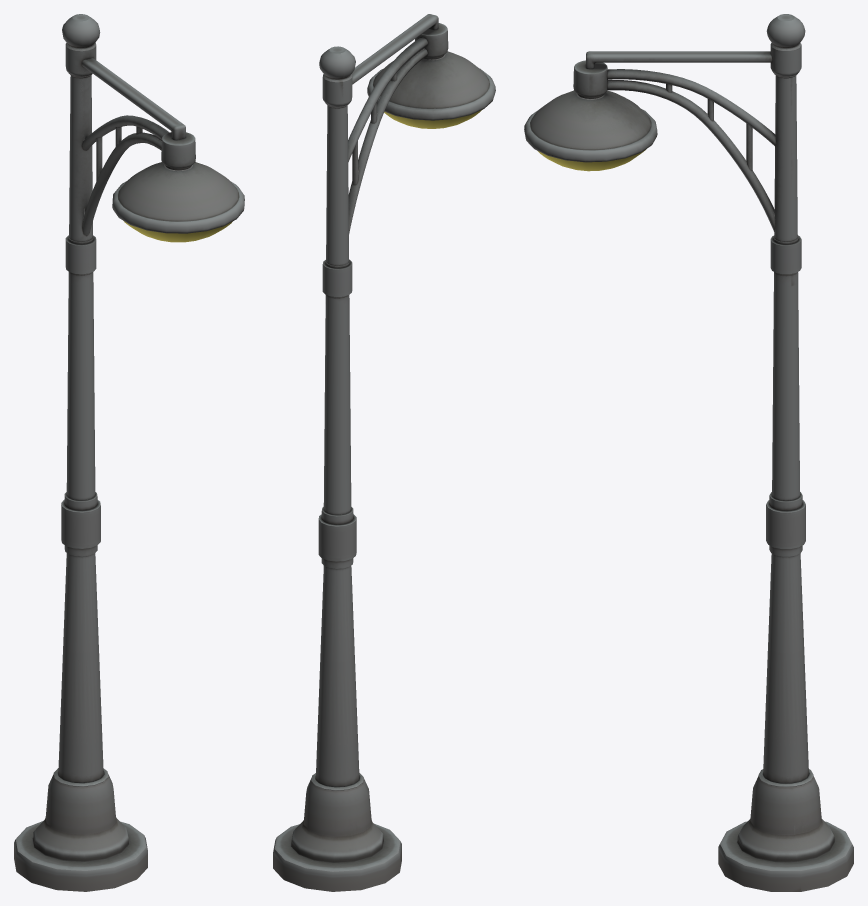
The picture shows the model from 3 angles, left to right: view 1: azimuth 30°, elevation 25°; view 2: azimuth 150°, elevation 25°; view 3: azimuth 270°, elevation 25°; orthographic projection. The views are drawn at different scales.
Parts seen in each view (by area): view 1: SM_Street_Light_M_Street_Light_Pole_0, SM_Street_Light_M_Street_Light_Emission_0; view 2: SM_Street_Light_M_Street_Light_Pole_0, SM_Street_Light_M_Street_Light_Emission_0; view 3: SM_Street_Light_M_Street_Light_Pole_0, SM_Street_Light_M_Street_Light_Emission_0.
Part boxes in pixels (x1=…): SM_Street_Light_M_Street_Light_Pole_0: x1=14, y1=14, x2=244, y2=891; SM_Street_Light_M_Street_Light_Emission_0: x1=124, y1=221, x2=232, y2=242; SM_Street_Light_M_Street_Light_Pole_0: x1=273, y1=14, x2=495, y2=891; SM_Street_Light_M_Street_Light_Emission_0: x1=384, y1=109, x2=482, y2=128; SM_Street_Light_M_Street_Light_Pole_0: x1=524, y1=14, x2=853, y2=891; SM_Street_Light_M_Street_Light_Emission_0: x1=538, y1=149, x2=646, y2=171.
Size of the model in its own units: 0.4273 by 2.99 by 1.06.
Materials: 2 (2 with a texture image).
